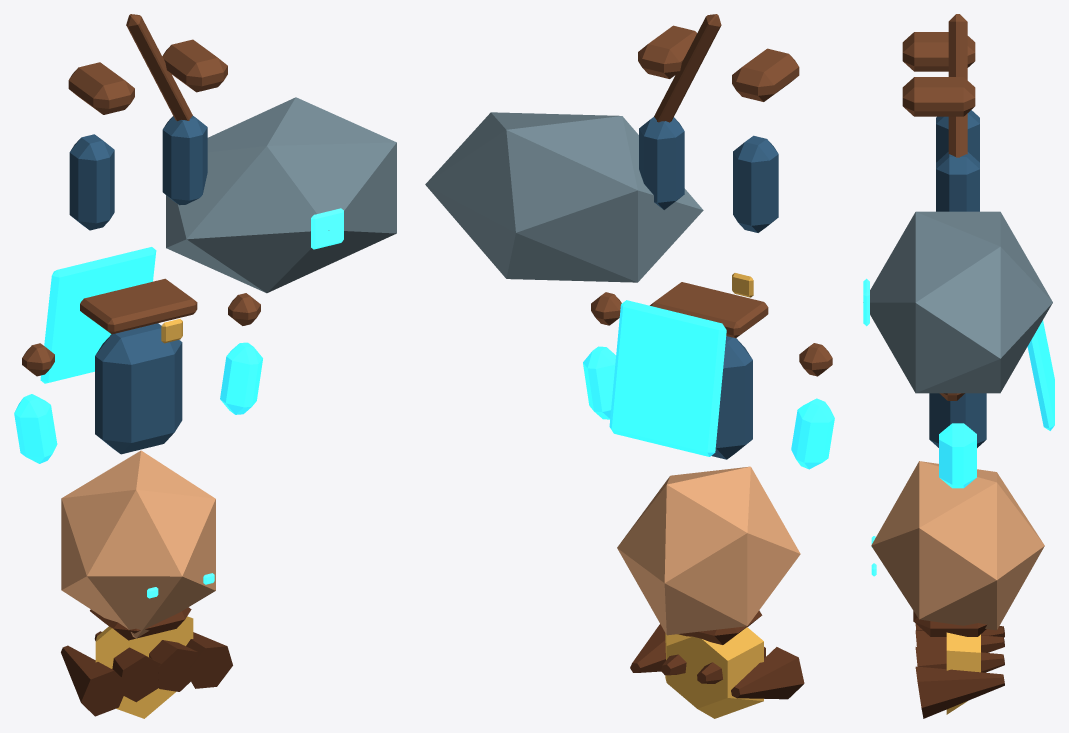
Rendered from crown_runner_v1.glb.
3 renders of one model, left to right at view 1: azimuth 30°, elevation 25°; view 2: azimuth 150°, elevation 25°; view 3: azimuth 270°, elevation 25°, orthographic.
Parts seen in each view (by area): view 1: Hero_HammerHead, Hero_Face, Hero_Torso, Hero_CapeCloth, Hero_Belt, Hero_LegArmor_L, Hero_LegArmor_R, Hero_Crown, Hero_HairSpike_0, Hero_Boot_L, Hero_ArmSleeve_R, Hero_Boot_R (+9 smaller); view 2: Hero_HammerHead, Hero_Face, Hero_CapeCloth, Hero_Crown, Hero_LegArmor_L, Hero_Torso, Hero_LegArmor_R, Hero_Belt, Hero_HairSpike_0, Hero_Boot_L, Hero_ArmSleeve_L, Hero_HammerHandle (+6 smaller); view 3: Hero_HammerHead, Hero_Face, Hero_HairSpike_3, Hero_Boot_R, Hero_LegArmor_R, Hero_ArmSleeve_R, Hero_Torso, Hero_HammerHandle, Hero_Boot_L, Hero_CapeCloth, Hero_Crown, Hero_LegArmor_L (+3 smaller).
Boxes of the visible parts, left/top/right/bottom form: Hero_HammerHead: left=166, top=97, right=396, bottom=293; Hero_Face: left=61, top=450, right=215, bottom=638; Hero_Torso: left=95, top=323, right=182, bottom=454; Hero_CapeCloth: left=40, top=247, right=156, bottom=383; Hero_Belt: left=80, top=278, right=197, bottom=334; Hero_LegArmor_L: left=69, top=134, right=114, bottom=230; Hero_LegArmor_R: left=162, top=115, right=207, bottom=205; Hero_Crown: left=95, top=616, right=193, bottom=718; Hero_HairSpike_0: left=61, top=645, right=128, bottom=716; Hero_Boot_L: left=68, top=62, right=134, bottom=114; Hero_ArmSleeve_R: left=220, top=342, right=262, bottom=414; Hero_Boot_R: left=162, top=39, right=227, bottom=92; Hero_HammerHead: left=425, top=112, right=703, bottom=282; Hero_Face: left=617, top=466, right=800, bottom=635; Hero_CapeCloth: left=609, top=300, right=726, bottom=456; Hero_Crown: left=665, top=627, right=763, bottom=718; Hero_LegArmor_L: left=733, top=135, right=778, bottom=232; Hero_Torso: left=711, top=336, right=752, bottom=459; Hero_LegArmor_R: left=639, top=117, right=684, bottom=209; Hero_Belt: left=650, top=282, right=768, bottom=338; Hero_HairSpike_0: left=731, top=647, right=804, bottom=699; Hero_Boot_L: left=732, top=48, right=799, bottom=101; Hero_ArmSleeve_L: left=791, top=398, right=834, bottom=469; Hero_HammerHandle: left=654, top=14, right=721, bottom=122; Hero_HammerHead: left=870, top=211, right=1052, bottom=393; Hero_Face: left=871, top=461, right=1044, bottom=630; Hero_HairSpike_3: left=915, top=666, right=1004, bottom=718; Hero_Boot_R: left=902, top=77, right=975, bottom=116; Hero_LegArmor_R: left=936, top=152, right=979, bottom=211; Hero_ArmSleeve_R: left=939, top=423, right=976, bottom=488; Hero_Torso: left=929, top=393, right=986, bottom=447; Hero_HammerHandle: left=948, top=14, right=967, bottom=157; Hero_Boot_L: left=902, top=32, right=975, bottom=71; Hero_CapeCloth: left=1027, top=320, right=1054, bottom=430; Hero_Crown: left=946, top=632, right=980, bottom=714; Hero_LegArmor_L: left=936, top=110, right=979, bottom=162.
Size of the model in its own units: 2.29 by 4.04 by 1.01.
